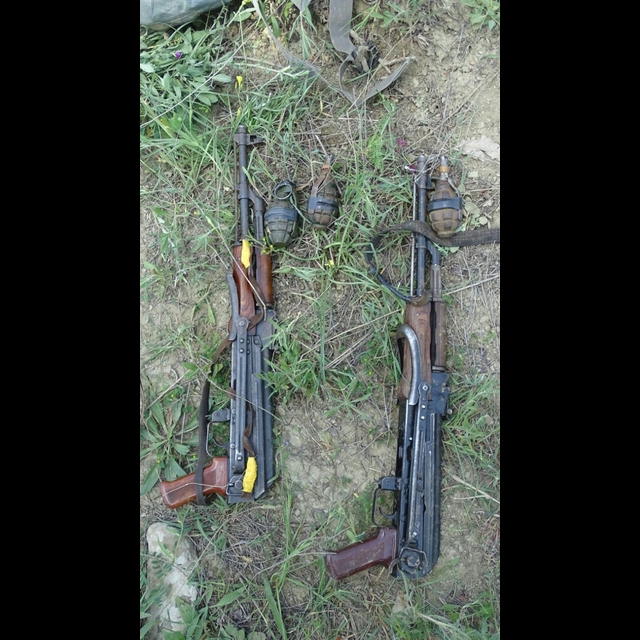AK47: (158, 127, 280, 508), (354, 156, 455, 588)
